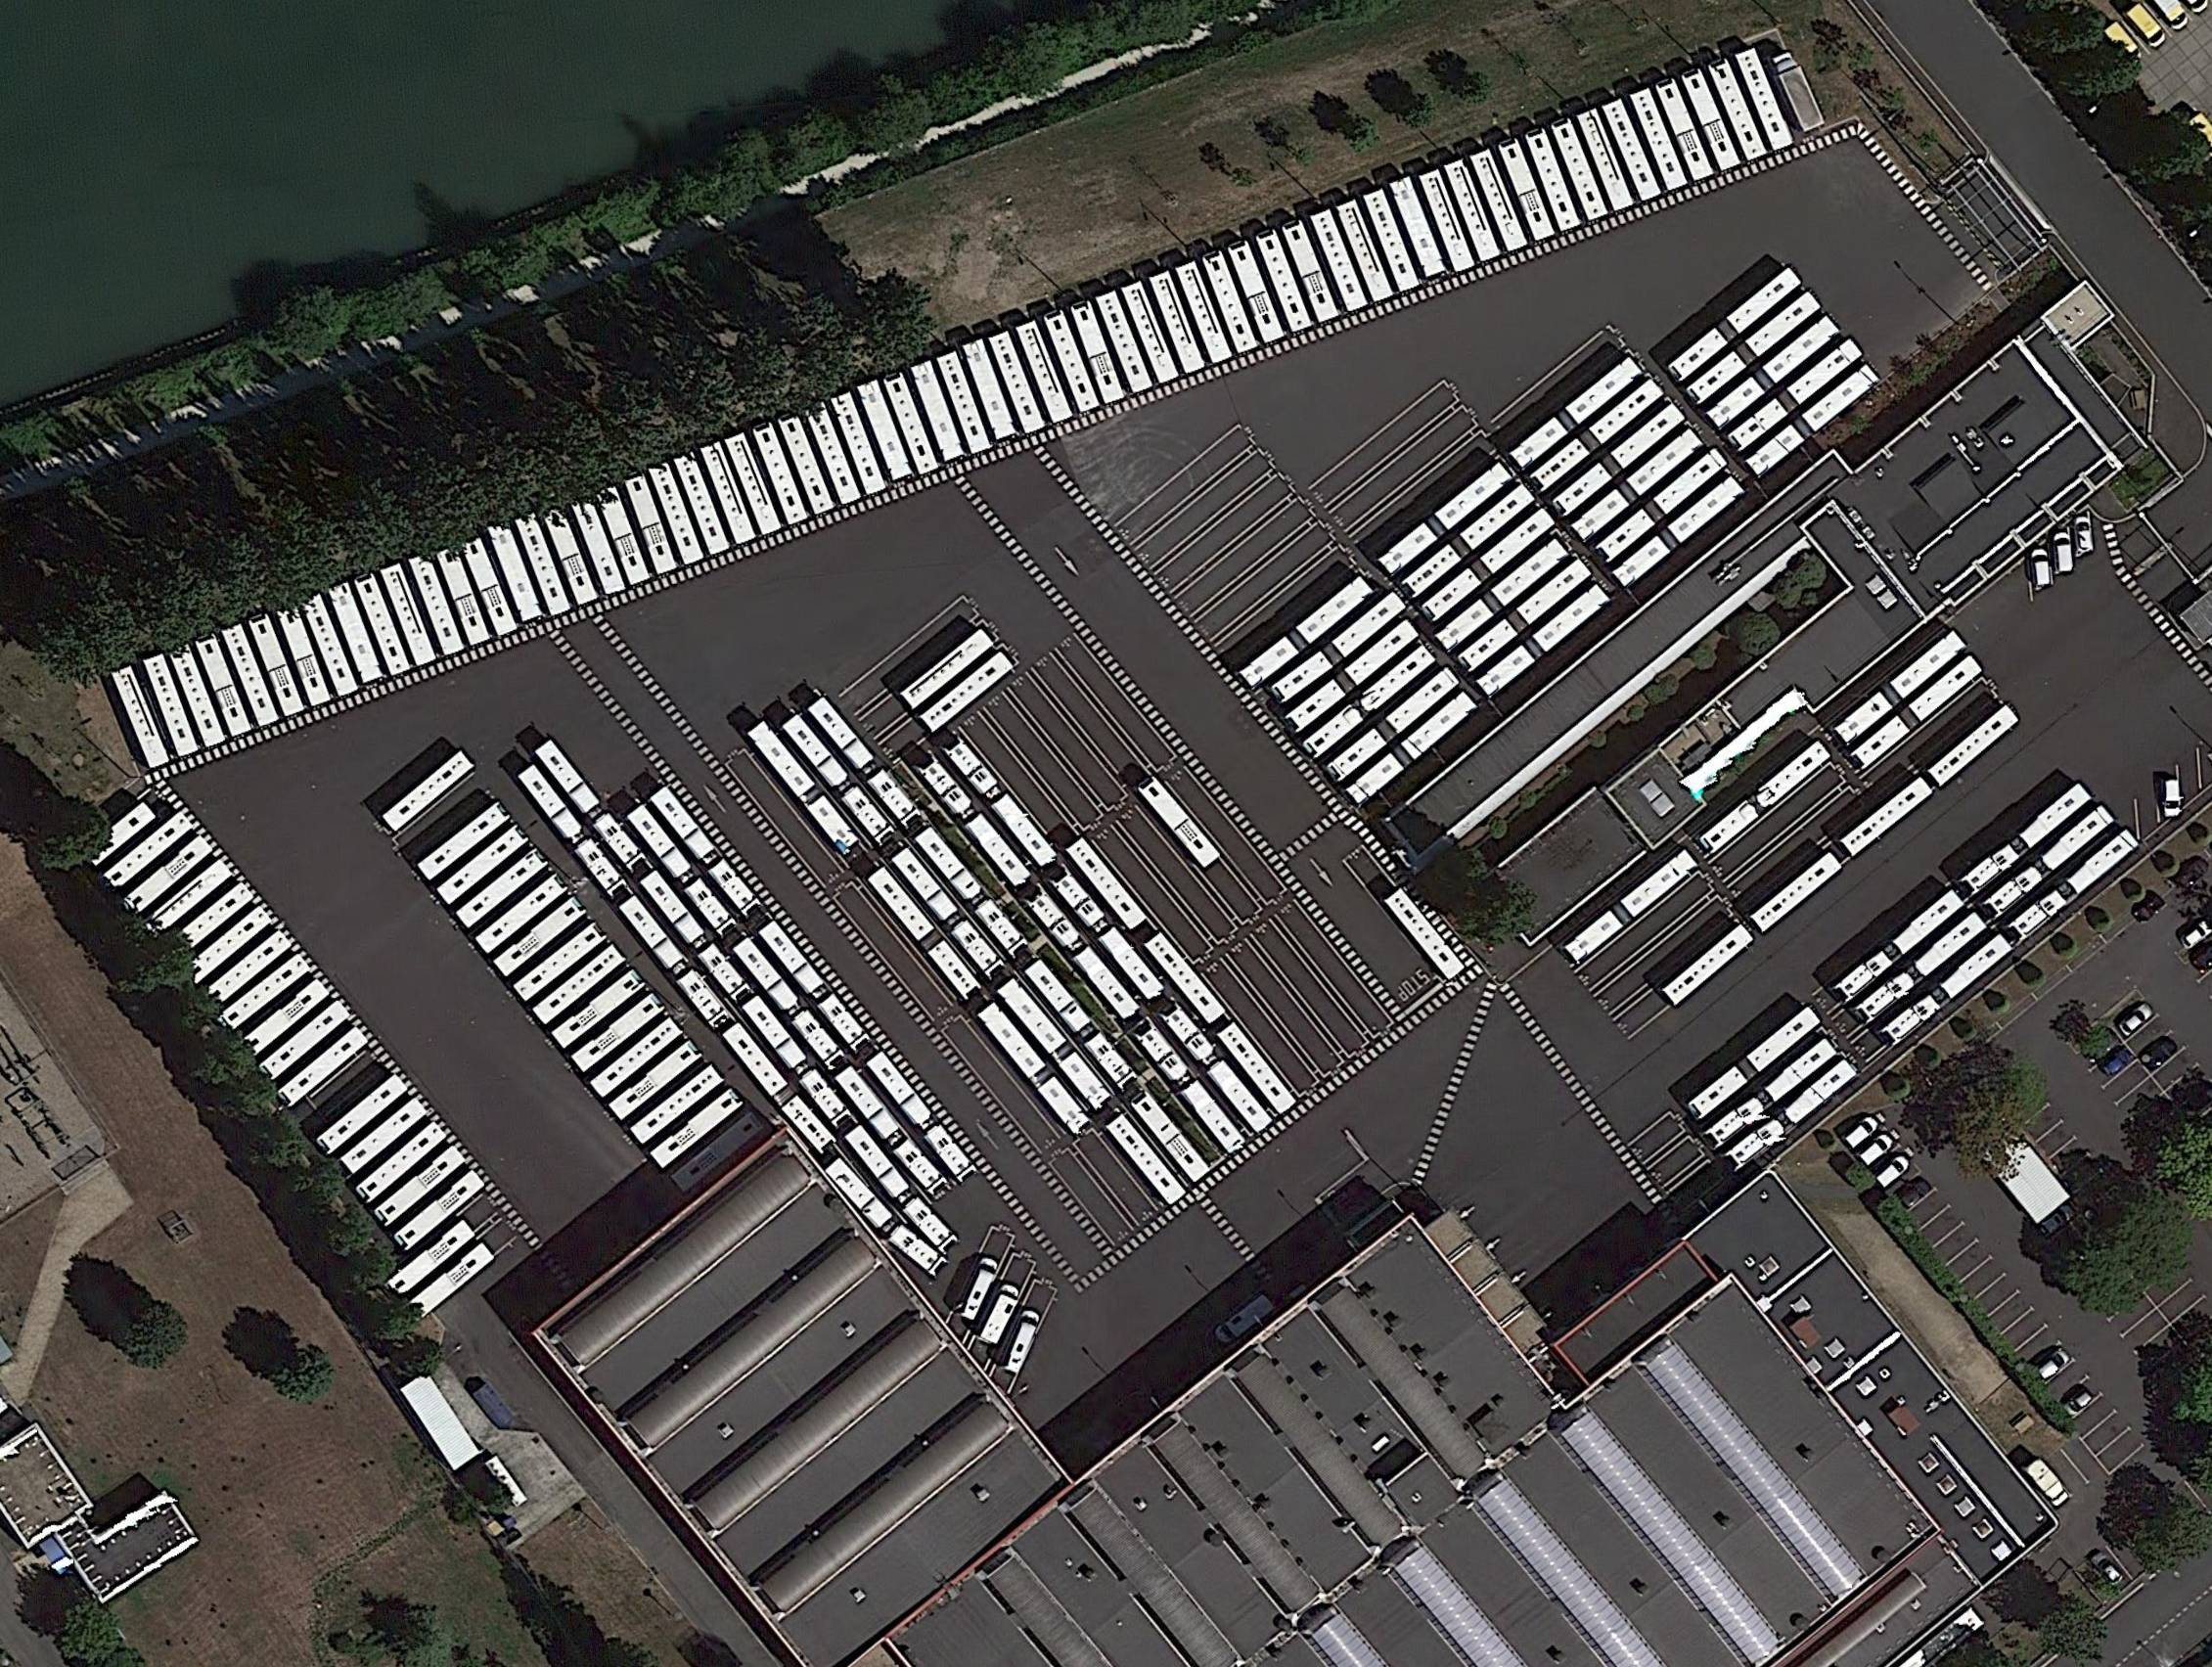large vehicle: (1399, 482, 1538, 602), (1377, 457, 1515, 578), (1832, 627, 1969, 748), (1846, 653, 1984, 772), (1324, 665, 1462, 784), (1685, 1003, 1825, 1121), (1685, 289, 1825, 406), (1433, 536, 1573, 653), (1667, 264, 1804, 383), (1238, 574, 1375, 693), (1550, 401, 1688, 518), (1454, 557, 1592, 674), (1419, 506, 1557, 623), (1049, 865, 1166, 1003), (1727, 336, 1867, 452), (1525, 378, 1666, 494), (1025, 886, 1142, 1023), (916, 753, 1033, 890), (1343, 688, 1480, 805), (1562, 848, 1701, 963), (1743, 364, 1881, 480), (1475, 581, 1613, 697), (998, 975, 1114, 1114), (1706, 313, 1841, 431), (1596, 447, 1730, 564), (1571, 427, 1706, 545), (1301, 644, 1436, 762), (746, 718, 862, 855), (1508, 355, 1645, 471), (1133, 1019, 1249, 1156), (1284, 618, 1420, 734), (1270, 590, 1406, 706), (1983, 802, 2116, 919), (618, 895, 732, 1031), (869, 863, 983, 1000), (979, 1000, 1091, 1138), (722, 1021, 837, 1154), (638, 870, 753, 1003), (1699, 739, 1832, 855), (2007, 828, 2140, 944), (914, 826, 1030, 960), (1704, 1035, 1839, 1149), (1161, 1000, 1275, 1135), (743, 996, 855, 1133), (781, 713, 895, 846), (1025, 958, 1138, 1091), (757, 918, 869, 1052), (1611, 476, 1746, 588), (730, 937, 844, 1068), (1963, 781, 2095, 895), (891, 846, 1005, 977), (865, 1049, 977, 1182), (625, 804, 737, 937), (650, 784, 762, 918), (517, 765, 629, 898), (1881, 933, 2014, 1045), (946, 737, 1058, 870), (1725, 1059, 1860, 1170), (844, 1124, 958, 1254), (807, 697, 921, 826), (1835, 888, 1965, 1002), (823, 1157, 944, 1278), (837, 1068, 949, 1198), (1856, 912, 1988, 1023), (536, 739, 645, 867), (531, 942, 630, 1028), (590, 1014, 687, 1101), (256, 998, 354, 1084), (98, 811, 196, 897), (898, 627, 997, 713), (648, 1086, 748, 1170), (380, 748, 476, 833), (434, 823, 532, 907), (918, 650, 1016, 734), (671, 1110, 765, 1196), (1841, 774, 1935, 860), (1927, 702, 2021, 788), (392, 1170, 489, 1254), (371, 1143, 468, 1227), (315, 1072, 412, 1156), (275, 1026, 371, 1110), (119, 835, 215, 919), (1142, 930, 1226, 1026), (1138, 774, 1222, 870), (550, 967, 648, 1049), (511, 919, 609, 1002), (1067, 835, 1149, 933), (630, 1063, 725, 1147), (354, 1121, 448, 1205), (1662, 923, 1757, 1007), (1105, 1112, 1189, 1206), (608, 1038, 704, 1121), (475, 872, 571, 954), (1748, 851, 1844, 933), (494, 897, 588, 979), (200, 930, 294, 1012), (455, 846, 550, 928), (1130, 1089, 1212, 1184), (1217, 1019, 1298, 1115), (180, 904, 273, 986), (1385, 886, 1466, 981), (571, 993, 667, 1072), (338, 1096, 429, 1178), (219, 953, 313, 1031), (415, 804, 511, 881), (385, 1220, 476, 1301), (240, 977, 331, 1058), (142, 860, 235, 937), (1601, 96, 1666, 203), (408, 1241, 497, 1319), (1706, 56, 1769, 163), (1653, 77, 1715, 186), (1734, 47, 1797, 152), (1363, 186, 1422, 296), (828, 390, 890, 497), (1040, 306, 1100, 415), (778, 410, 837, 518), (142, 651, 201, 760), (110, 664, 170, 772), (1121, 280, 1182, 385), (298, 594, 359, 699), (1335, 200, 1396, 305), (1681, 68, 1743, 173), (1149, 270, 1208, 376), (673, 452, 732, 559), (194, 632, 254, 739), (1550, 116, 1610, 222), (1469, 149, 1529, 256), (1014, 320, 1075, 424), (1229, 238, 1287, 347), (648, 461, 706, 569), (1524, 126, 1582, 235), (856, 378, 916, 483), (515, 513, 574, 618), (354, 573, 413, 678), (1631, 88, 1690, 193), (1576, 107, 1636, 212), (1096, 289, 1154, 396), (990, 329, 1047, 436), (883, 369, 940, 476), (380, 562, 438, 669), (170, 644, 228, 751), (1310, 207, 1368, 313), (1499, 137, 1557, 243), (1175, 261, 1235, 364), (543, 506, 602, 609), (753, 420, 809, 529), (277, 602, 333, 711), (1282, 219, 1340, 324), (804, 401, 862, 506), (487, 518, 545, 623), (408, 553, 466, 658), (328, 581, 385, 686), (222, 623, 280, 728), (1443, 159, 1501, 264), (461, 536, 520, 637), (1389, 177, 1448, 278), (1203, 249, 1259, 355), (1072, 299, 1128, 406), (623, 471, 680, 578), (595, 485, 653, 588), (725, 433, 783, 536), (173, 883, 256, 954), (1256, 229, 1312, 334), (249, 613, 305, 718), (569, 496, 627, 597), (1420, 170, 1475, 277), (436, 545, 492, 648), (962, 338, 1016, 443), (937, 352, 991, 455), (702, 443, 757, 546), (1765, 46, 1827, 137), (912, 359, 965, 462), (82, 802, 158, 869), (995, 1305, 1046, 1378), (955, 1254, 1004, 1322), (976, 1280, 1023, 1347)
small vehicle: (2021, 1452, 2072, 1513), (2123, 2, 2170, 53), (2102, 19, 2147, 70), (2030, 1343, 2074, 1385), (1842, 1112, 1886, 1154), (2116, 996, 2158, 1040), (2088, 1548, 2128, 1592), (1870, 1152, 1914, 1191), (1856, 1129, 1897, 1170), (2140, 1033, 2180, 1073), (2096, 1045, 2135, 1080), (2060, 1385, 2096, 1418), (1897, 1177, 1932, 1210), (2072, 515, 2096, 560), (2054, 531, 2075, 576), (2030, 548, 2053, 590), (2163, 774, 2184, 818)
